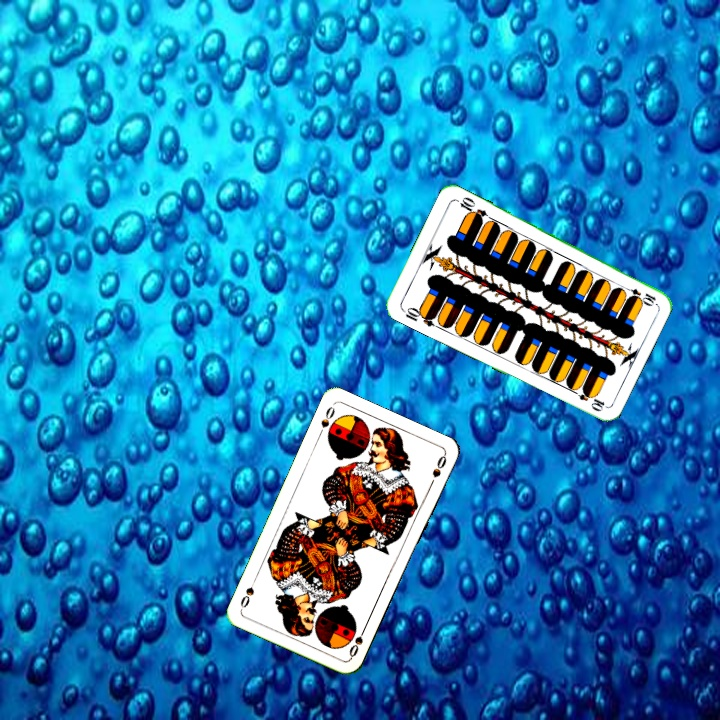E10: (398, 303, 439, 329), (619, 282, 659, 307)
SO: (345, 622, 369, 661), (314, 402, 337, 439)
